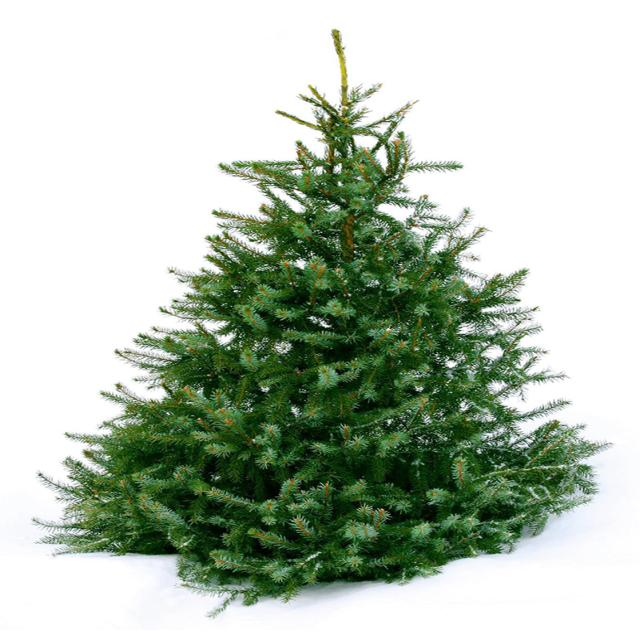Christmas-tree: (0, 4, 637, 613)
